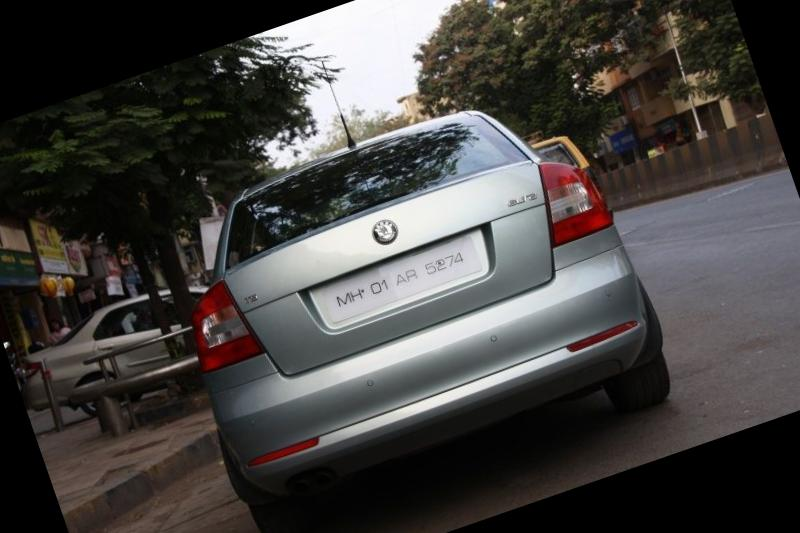plate: (286, 221, 509, 354)
